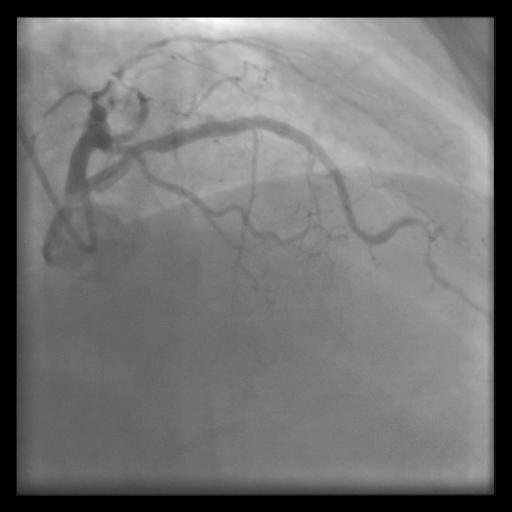Stenosis: (123, 138, 156, 156)
